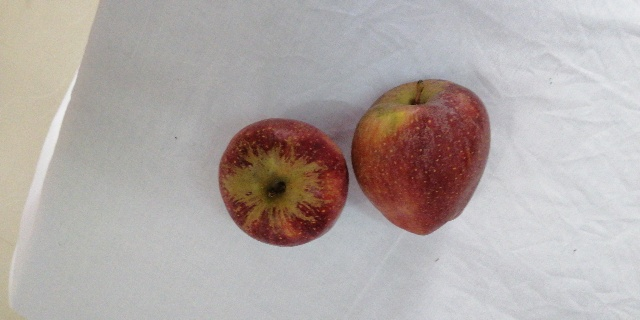apple_kashmir: (354, 74, 489, 240), (218, 116, 348, 247)
